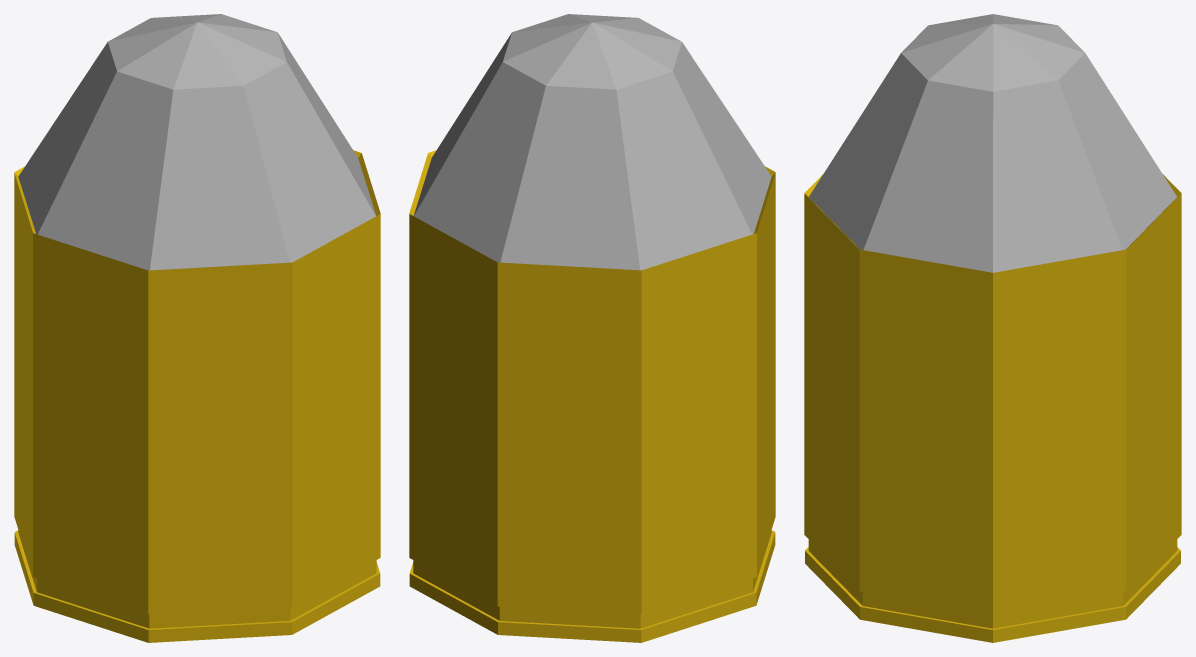
Rendered from bulletfull.glb.
3 renders of one model, left to right at view 1: azimuth 30°, elevation 25°; view 2: azimuth 150°, elevation 25°; view 3: azimuth 270°, elevation 25°, orthographic.
Parts seen in each view (by area): view 1: Cylinder; view 2: Cylinder; view 3: Cylinder.
Part boxes in pixels (x1,y1,x2,y2): Cylinder: (14,14,380,642); Cylinder: (409,14,775,642); Cylinder: (804,14,1181,642).
Bounding box in the file's own units: 0.6138 × 0.9693 × 0.6138.
1 material, 1 textured.
